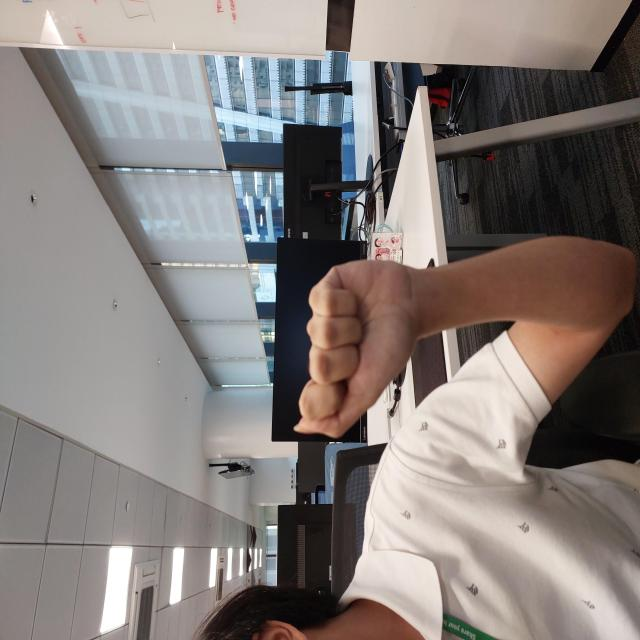A: (200, 291, 381, 416)
